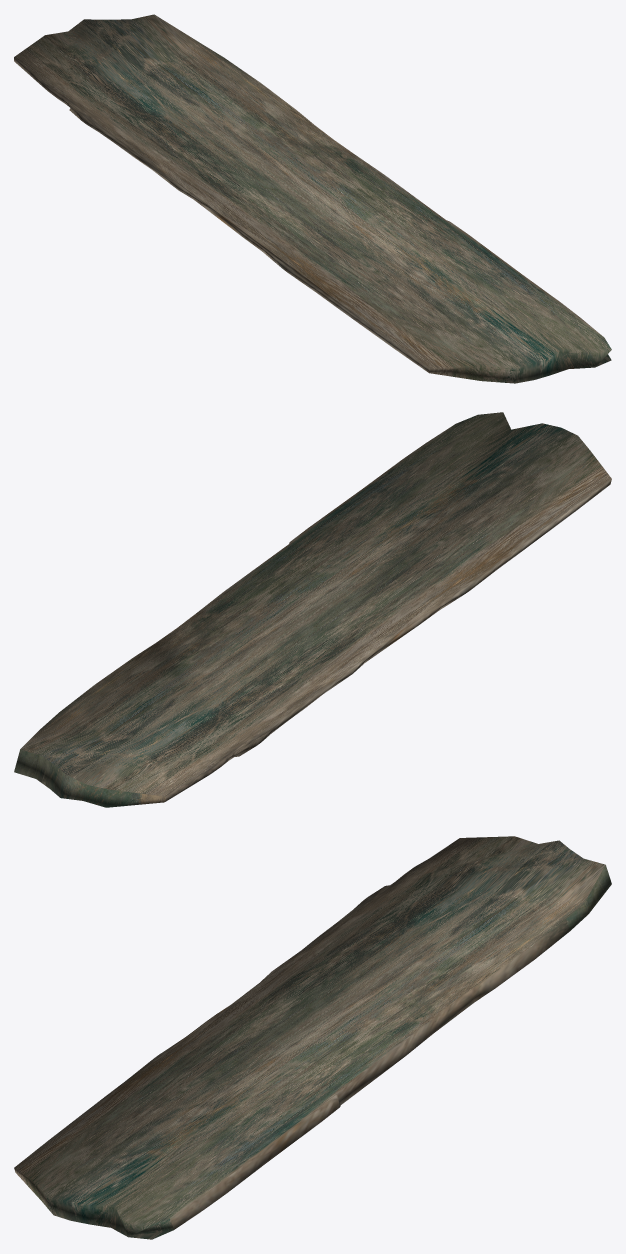
The model's file is wooden_plank_model.fbx.
3 renders of one model, top to bottom at view 1: azimuth 30°, elevation 25°; view 2: azimuth 150°, elevation 25°; view 3: azimuth 330°, elevation 25°, orthographic. The views are drawn at different scales.
Parts seen in each view (by area): view 1: Plank_Broken_HP_plank_broken_0.004; view 2: Plank_Broken_HP_plank_broken_0.004; view 3: Plank_Broken_HP_plank_broken_0.004.
Boxes of the visible parts, x1,y1,x2,y2 form: Plank_Broken_HP_plank_broken_0.004: [14, 14, 611, 383]; Plank_Broken_HP_plank_broken_0.004: [14, 412, 611, 807]; Plank_Broken_HP_plank_broken_0.004: [14, 836, 611, 1239].
Bounding box in the file's own units: 5.84 × 27.28 × 0.8897.
